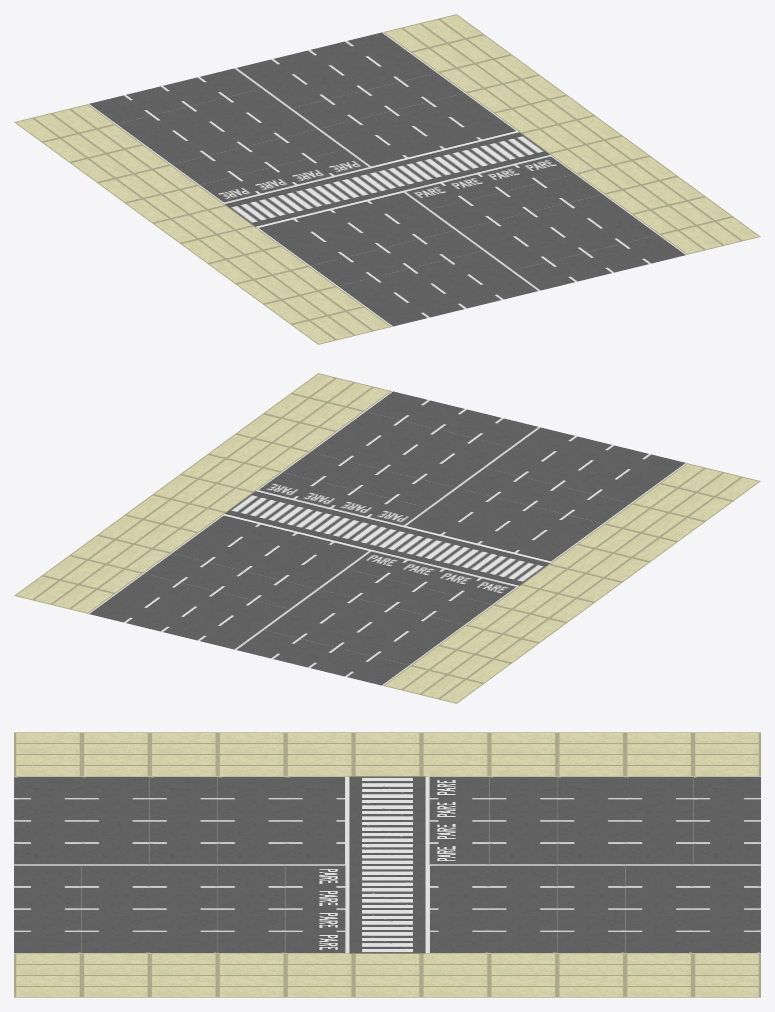
Rendered from Estrada.fbx.
The picture shows the model from 3 angles, top to bottom: view 1: azimuth 30°, elevation 25°; view 2: azimuth 150°, elevation 25°; view 3: azimuth 270°, elevation 25°; orthographic projection. The views are drawn at different scales.
Parts seen in each view (by area): view 1: Estrada; view 2: Estrada; view 3: Estrada.
Part boxes in pixels (box(x1,y1,x2,y2)): Estrada: box(14, 14, 760, 344); Estrada: box(14, 373, 760, 703); Estrada: box(14, 732, 760, 997).
Bounding box in the file's own units: 4200 × 0.000815 × 5000.
2 materials, 2 textured.
